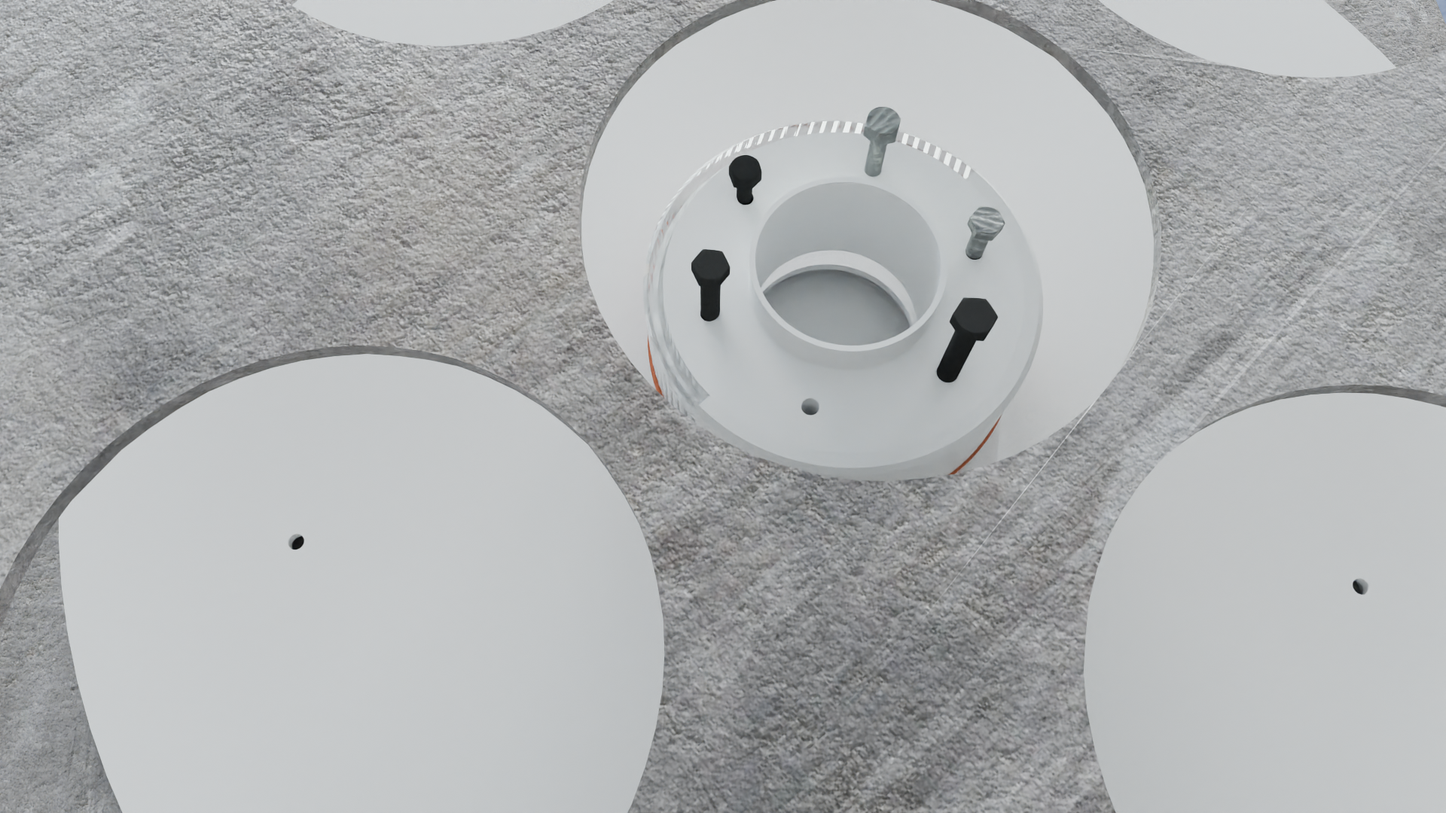bolt: (953, 297, 998, 334), (691, 249, 730, 281), (865, 107, 901, 138), (970, 206, 1005, 234), (729, 155, 762, 183)
